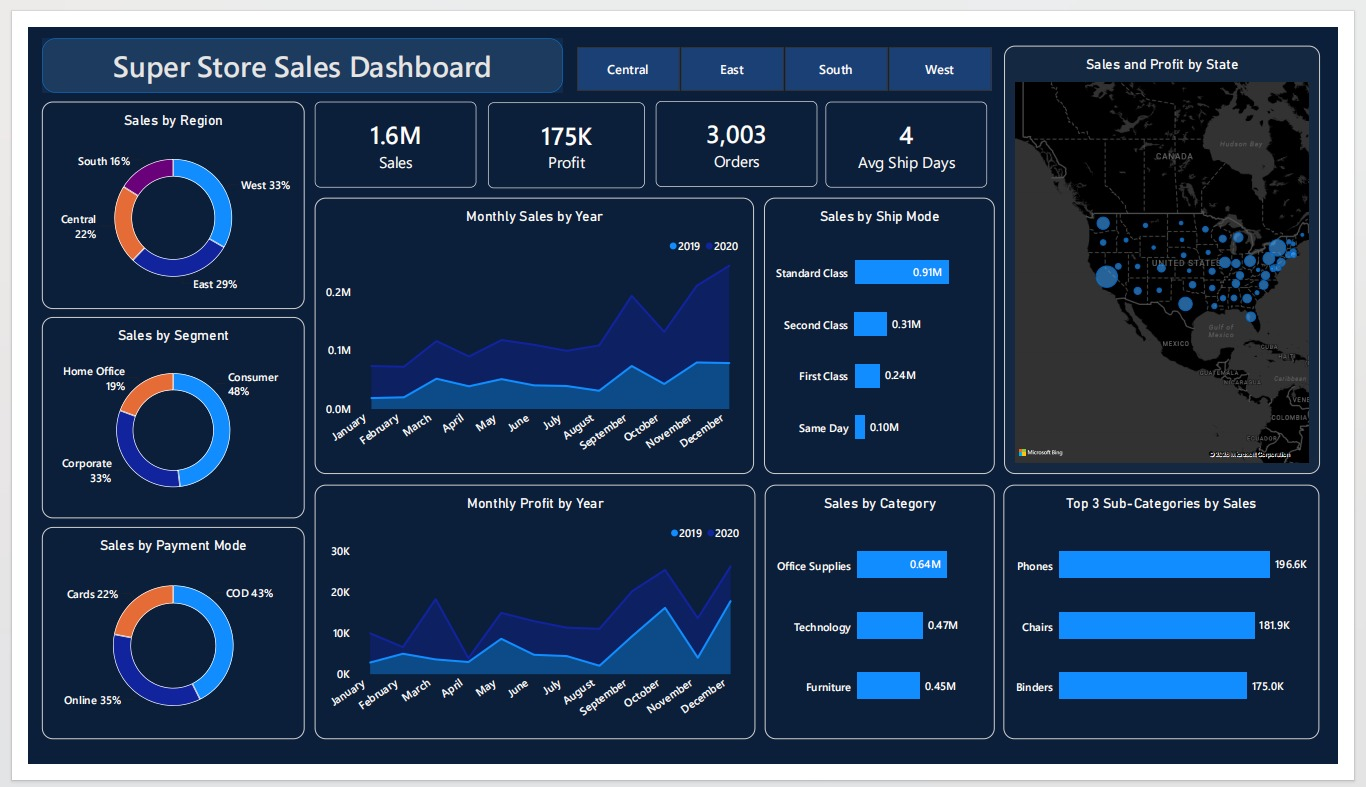

This screenshot's page, from the dashboard's own definition file:
{"tool":"powerbi","page":{"name":"Sales_Report","canvas":[1920,1080],"ordinal":0},"visuals":[{"type":"clusteredBarChart","title":"Sales by Category","fields":{"Category":["SuperStore_Sales_Dataset.Category"],"Y":["Sum(SuperStore_Sales_Dataset.Sales)"]},"box":[1080.4,671.4,336.6,372.8],"z":0},{"type":"clusteredBarChart","title":"Top 3 Sub-Categories by Sales","fields":{"Category":["SuperStore_Sales_Dataset.Sub-Category"],"Y":["Sum(SuperStore_Sales_Dataset.Sales)"]},"box":[1429.6,671.4,463.3,372.8],"z":1000},{"type":"stackedAreaChart","title":"Monthly Sales by Year","fields":{"Category":["SuperStore_Sales_Dataset.Order Date.Variation.Date Hierarchy.Month","SuperStore_Sales_Dataset.Order Date.Variation.Date Hierarchy.Day"],"Y":["Sum(SuperStore_Sales_Dataset.Sales)"],"Series":["SuperStore_Sales_Dataset.Order Date.Variation.Date Hierarchy.Year"]},"box":[419.8,249.7,644.2,405.4],"z":2000},{"type":"stackedAreaChart","title":"Monthly Profit by Year","fields":{"Category":["SuperStore_Sales_Dataset.Order Date.Variation.Date Hierarchy.Month","SuperStore_Sales_Dataset.Order Date.Variation.Date Hierarchy.Day"],"Series":["SuperStore_Sales_Dataset.Order Date.Variation.Date Hierarchy.Year"],"Y":["Sum(SuperStore_Sales_Dataset.Profit)"]},"box":[419.8,671.4,646,372.8],"z":3000},{"type":"map","title":"Sales and Profit by State","fields":{"Category":["SuperStore_Sales_Dataset.State"],"Size":["Sum(SuperStore_Sales_Dataset.Sales)"]},"box":[1430.5,26.8,463.1,627.8],"z":4000},{"type":"donutChart","title":"Sales by Region","fields":{"Category":["SuperStore_Sales_Dataset.Region"],"Y":["Sum(SuperStore_Sales_Dataset.Sales)"]},"box":[19.9,108.6,385.5,304],"z":5000},{"type":"donutChart","title":"Sales by Payment Mode","fields":{"Category":["SuperStore_Sales_Dataset.Payment Mode"],"Y":["Sum(SuperStore_Sales_Dataset.Sales)"]},"box":[19.9,732.9,385.5,311.3],"z":6000},{"type":"slicer","fields":{"Values":["SuperStore_Sales_Dataset.Region"]},"box":[784.2,26.8,646.3,67.9],"z":7000},{"type":"shape","box":[19.9,16.3,763.7,79.6],"z":8000},{"type":"textbox","box":[20.6,26.8,763.6,67.9],"z":9000},{"type":"cardVisual","fields":{"Data":["Sum(SuperStore_Sales_Dataset.Sales)"]},"box":[419.8,108.6,237,126],"z":10000},{"type":"cardVisual","fields":{"Data":["Sum(SuperStore_Sales_Dataset.Profit)"]},"box":[674,110,230,126],"z":11000},{"type":"cardVisual","fields":{"Data":["SuperStore_Sales_Dataset.Orders Display"]},"box":[920,108,237,126],"z":12000},{"type":"cardVisual","fields":{"Data":["SuperStore_Sales_Dataset.Avg Ship Days Rounded"]},"box":[1169,108.6,237.1,126.7],"z":13000},{"type":"clusteredBarChart","title":"Sales by Ship Mode","fields":{"Category":["SuperStore_Sales_Dataset.Ship Mode"],"Y":["Sum(SuperStore_Sales_Dataset.Sales)"]},"box":[1078.6,249.7,338.4,405.4],"z":14000},{"type":"donutChart","title":"Sales by Segment","fields":{"Category":["SuperStore_Sales_Dataset.Segment"],"Y":["Sum(SuperStore_Sales_Dataset.Sales)"]},"box":[19.9,425.3,385.5,295],"z":15000}]}

Visuals, with their boxes in screenshot pixels (x1, y1, x2, y2), scaled from the page's 1920x1080 canvas onto the 1366x787 screenshot:
"Sales by Category" clusteredBarChart: {"x1": 769, "y1": 489, "x2": 1008, "y2": 761}
"Top 3 Sub-Categories by Sales" clusteredBarChart: {"x1": 1017, "y1": 489, "x2": 1347, "y2": 761}
"Monthly Sales by Year" stackedAreaChart: {"x1": 299, "y1": 182, "x2": 757, "y2": 477}
"Monthly Profit by Year" stackedAreaChart: {"x1": 299, "y1": 489, "x2": 758, "y2": 761}
"Sales and Profit by State" map: {"x1": 1018, "y1": 20, "x2": 1347, "y2": 477}
"Sales by Region" donutChart: {"x1": 14, "y1": 79, "x2": 288, "y2": 301}
"Sales by Payment Mode" donutChart: {"x1": 14, "y1": 534, "x2": 288, "y2": 761}
slicer - SuperStore_Sales_Dataset.Region: {"x1": 558, "y1": 20, "x2": 1018, "y2": 69}
shape: {"x1": 14, "y1": 12, "x2": 557, "y2": 70}
textbox: {"x1": 15, "y1": 20, "x2": 558, "y2": 69}
cardVisual - Sum(SuperStore_Sales_Dataset.Sales): {"x1": 299, "y1": 79, "x2": 467, "y2": 171}
cardVisual - Sum(SuperStore_Sales_Dataset.Profit): {"x1": 480, "y1": 80, "x2": 643, "y2": 172}
cardVisual - SuperStore_Sales_Dataset.Orders Display: {"x1": 655, "y1": 79, "x2": 823, "y2": 171}
cardVisual - SuperStore_Sales_Dataset.Avg Ship Days Rounded: {"x1": 832, "y1": 79, "x2": 1000, "y2": 171}
"Sales by Ship Mode" clusteredBarChart: {"x1": 767, "y1": 182, "x2": 1008, "y2": 477}
"Sales by Segment" donutChart: {"x1": 14, "y1": 310, "x2": 288, "y2": 525}
